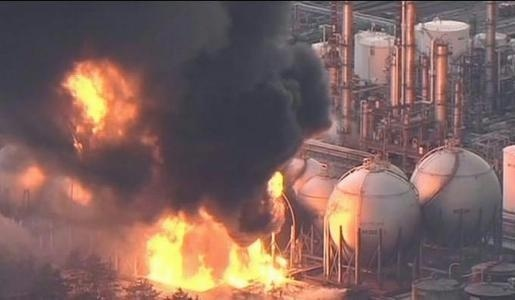fire: (135, 206, 292, 292), (64, 57, 142, 142), (266, 171, 284, 199)
